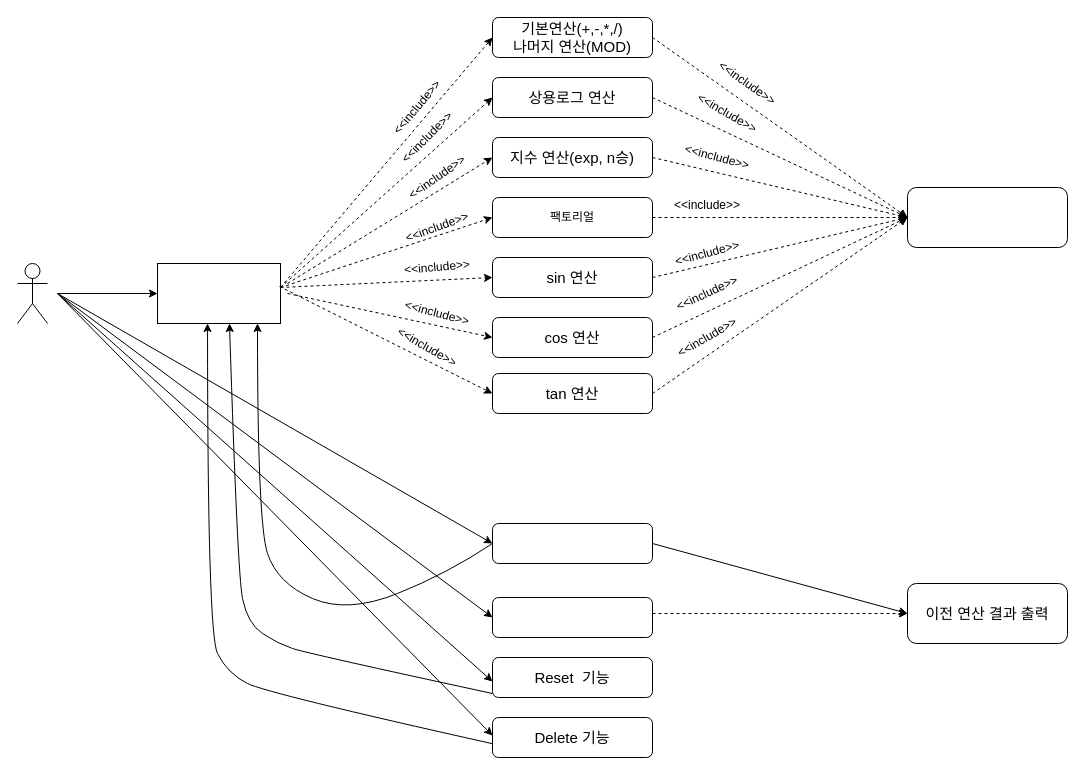
Image size: 1085x775. Some labels were removed from this diagram. Here are the shapes that lost their labels. From the top down, the box of each, then its label:
(906, 186, 1068, 248): 연산 결과 출력
(16, 262, 48, 324): User
(156, 262, 280, 324): 숫자 입력
(492, 522, 652, 564): Clear 기능
(492, 596, 652, 638): History 기능(On/Off)
